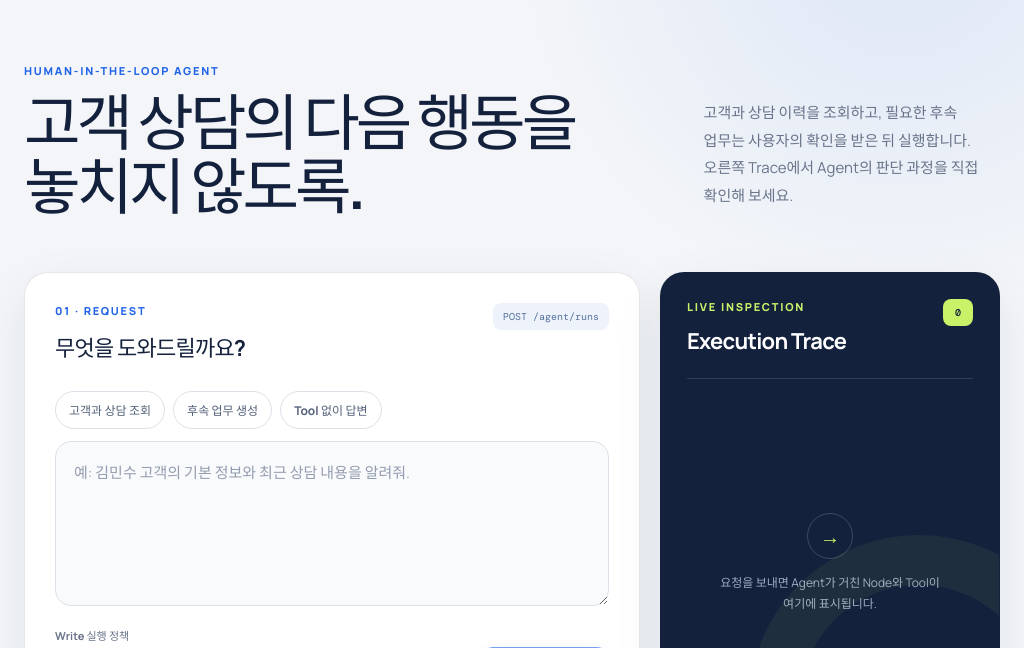
Test case: App › API 오류 메시지를 사용자에게 보여준다
Type "안녕하세요." into the text box named "Agent에게 요청할 내용" at (332, 524), box x1=55 y1=441 x2=609 y2=606
(page scrolled)
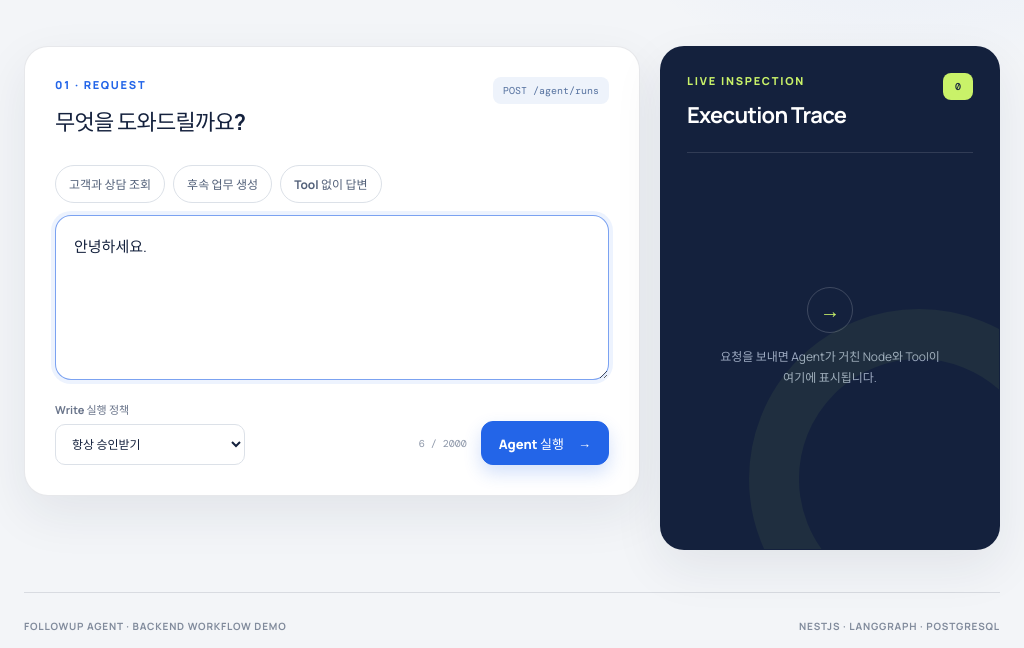
Click the button "Agent 실행 →" at (545, 443), box x1=481 y1=421 x2=609 y2=465
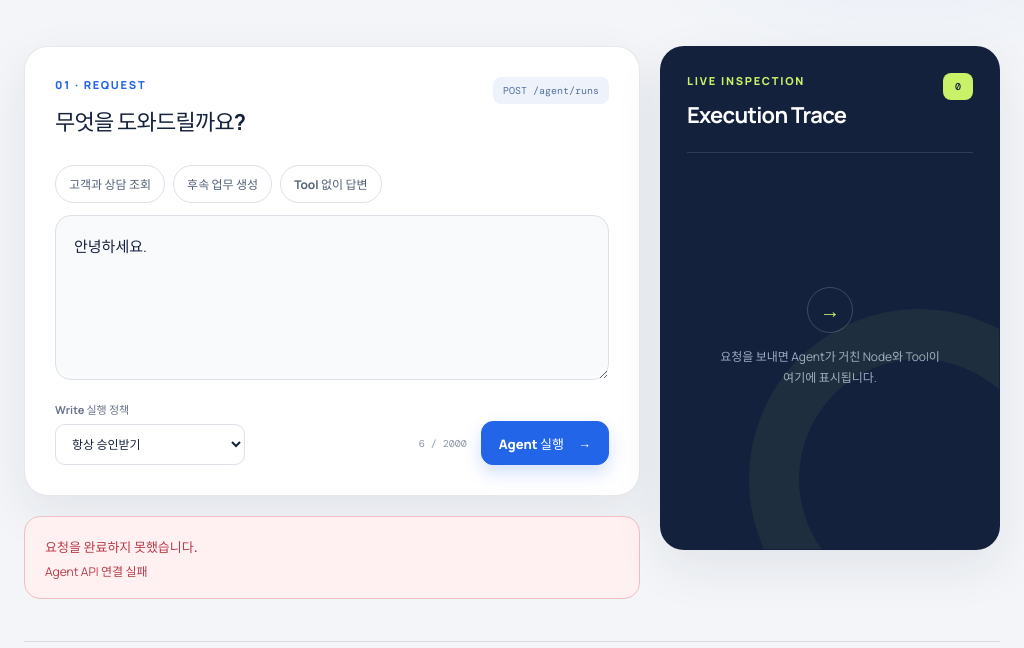
expect the message shows "Agent API 연결 실패": met, box x1=45 y1=563 x2=148 y2=580
